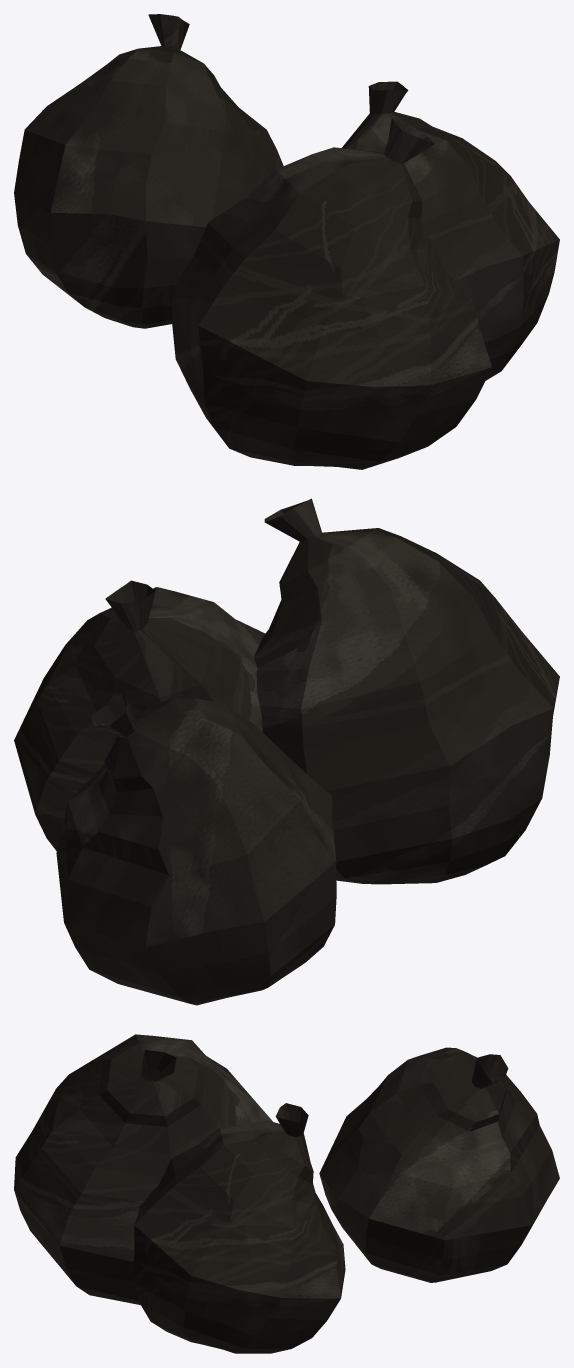
File: SM_3bag.fbx
3 renders of one model, top to bottom at view 1: azimuth 30°, elevation 25°; view 2: azimuth 150°, elevation 25°; view 3: azimuth 270°, elevation 25°, orthographic. The views are drawn at different scales.
Visible parts, largest first — view 1: SM_trash3bags; view 2: SM_trash3bags; view 3: SM_trash3bags.
Part boxes in pixels (box(x1,y1,x2,y2)): SM_trash3bags: box(14, 14, 559, 469); SM_trash3bags: box(14, 498, 559, 1005); SM_trash3bags: box(14, 1034, 559, 1353).
Bounding box in the file's own units: 68.93 × 50.46 × 95.24.
